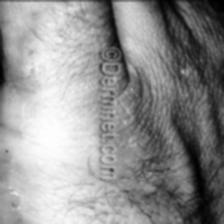Toxin: (9, 7, 60, 120), (0, 152, 46, 224)
